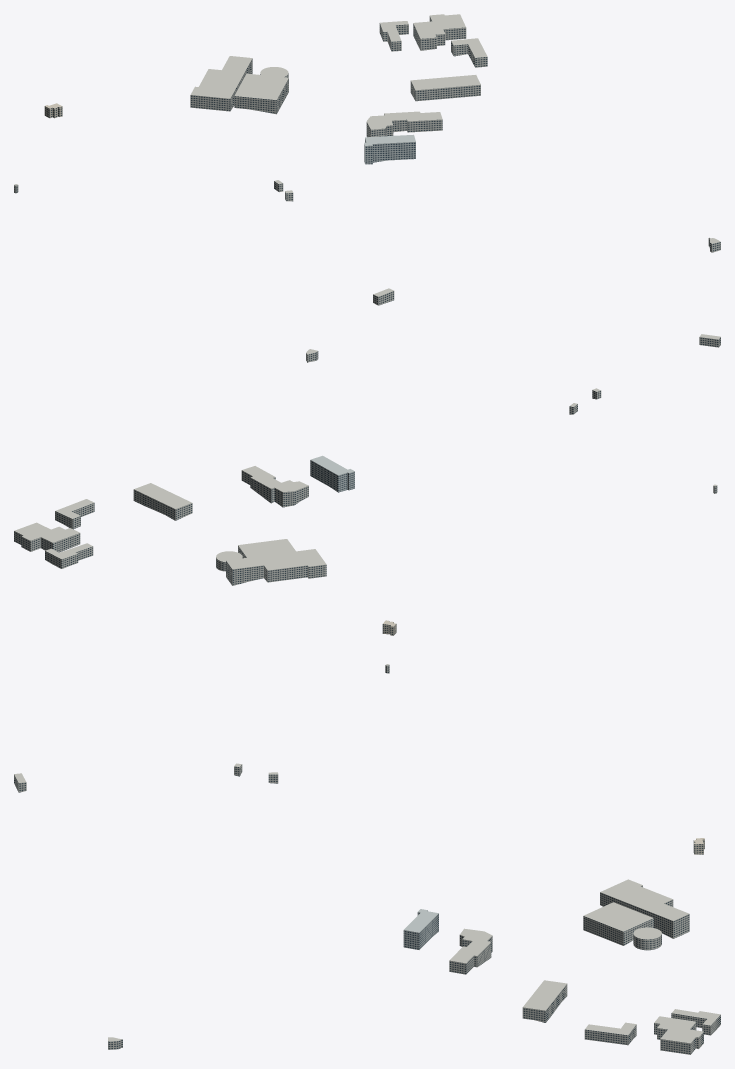
Rendered from city_-2_-1.glb.
The picture shows the model from 3 angles, top to bottom: view 1: azimuth 30°, elevation 25°; view 2: azimuth 150°, elevation 25°; view 3: azimuth 270°, elevation 25°; orthographic projection. The views are drawn at different scales.
Bounding box in the file's own units: 947 × 157 × 960.
3 materials, 3 textured.
